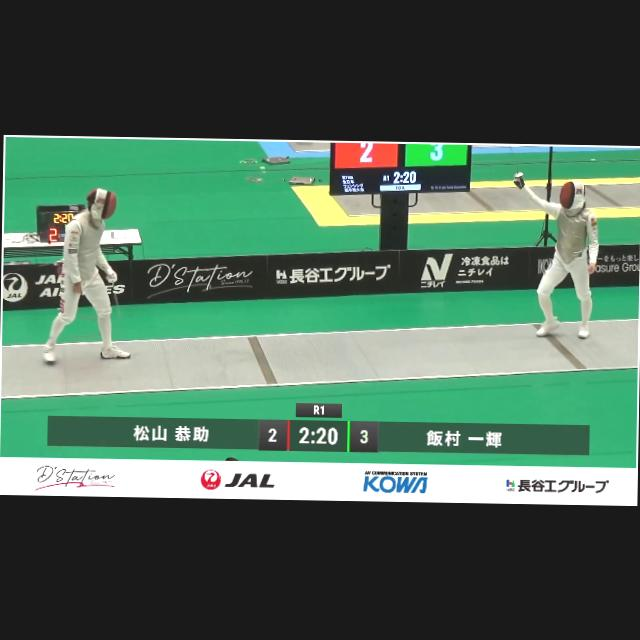blade: (499, 143, 534, 188), (102, 274, 132, 325)
